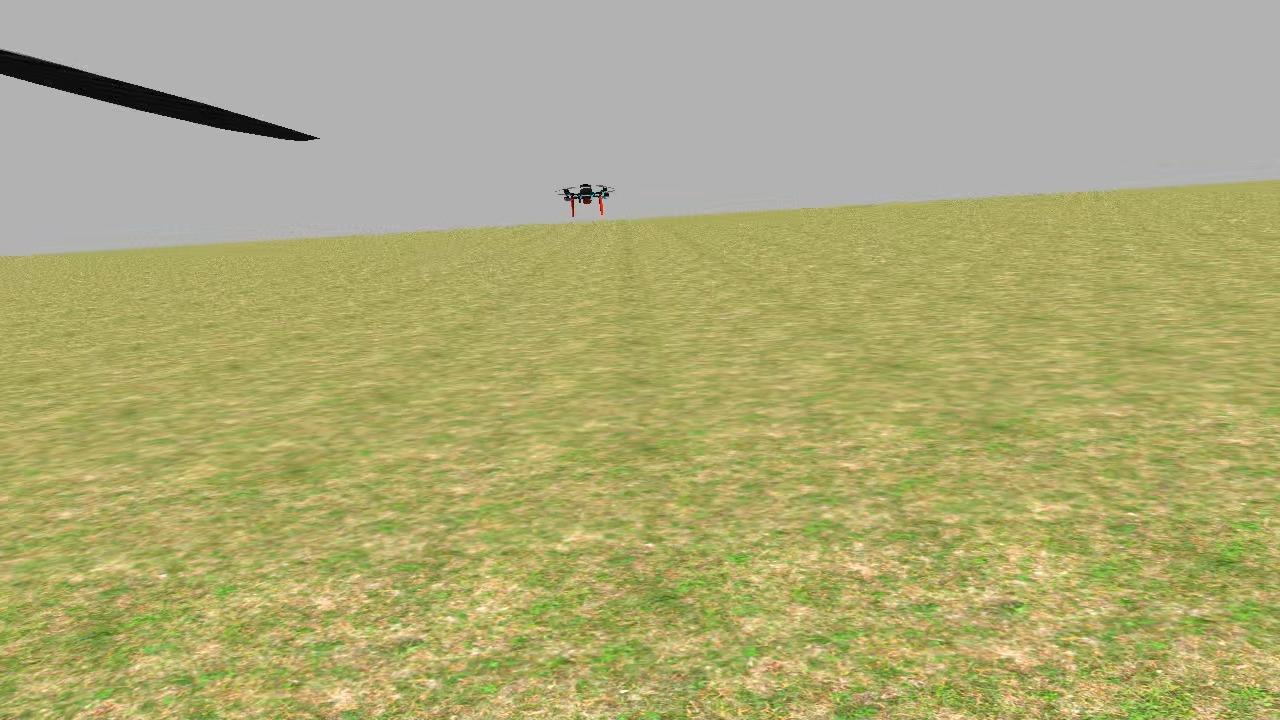UAV: (542, 165, 626, 226)
